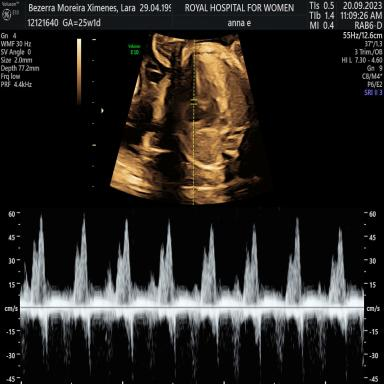Ultrasound-Waves: (25, 206, 361, 384)
